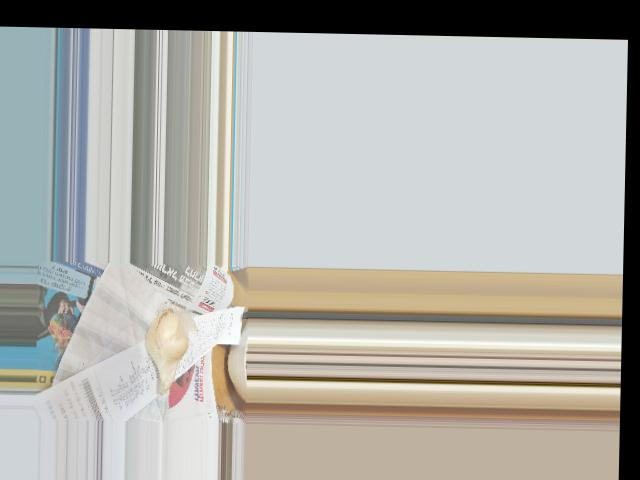onion: (147, 309, 186, 388)
